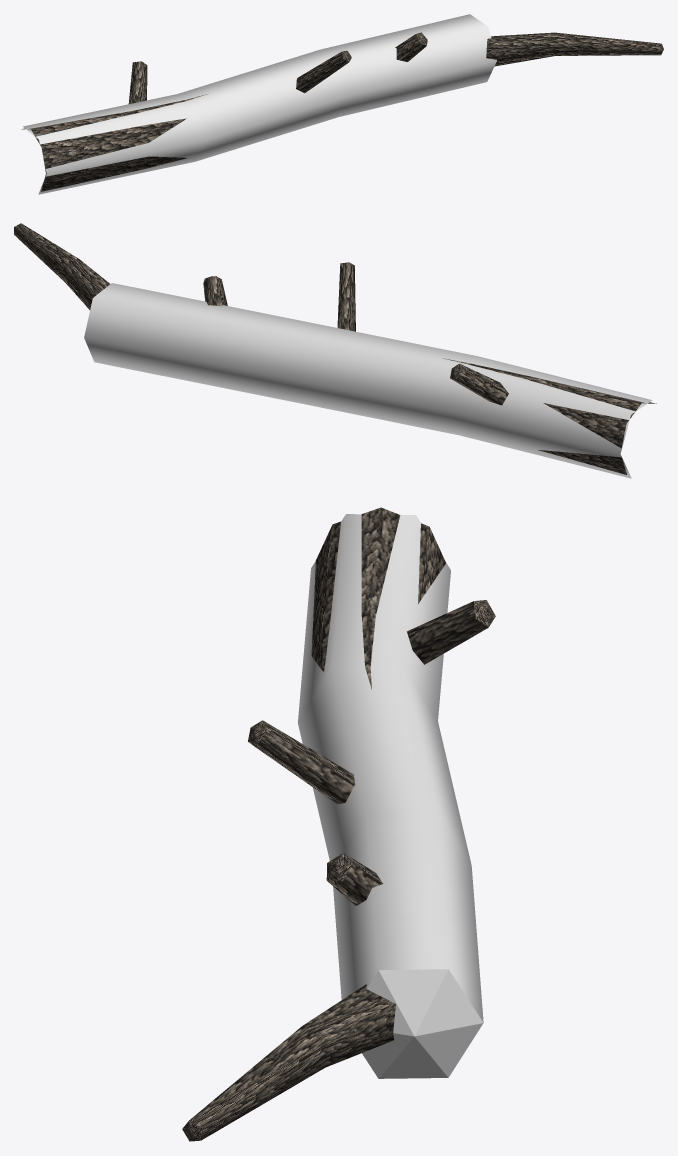
Rendered from Tronco-Caido-01.glb.
The picture shows the model from 3 angles, top to bottom: view 1: azimuth 30°, elevation 25°; view 2: azimuth 150°, elevation 25°; view 3: azimuth 270°, elevation 25°; orthographic projection. The views are drawn at different scales.
Parts seen in each view (by area): view 1: Tronco-Caido-01_COL, Tronco-Caido-01; view 2: Tronco-Caido-01_COL, Tronco-Caido-01; view 3: Tronco-Caido-01_COL, Tronco-Caido-01.
Part boxes in pixels (x1,y1,x2,y2): Tronco-Caido-01_COL: (23, 14, 496, 194); Tronco-Caido-01: (21, 32, 663, 191); Tronco-Caido-01_COL: (84, 283, 652, 478); Tronco-Caido-01: (14, 223, 656, 474); Tronco-Caido-01_COL: (298, 514, 483, 1078); Tronco-Caido-01: (182, 507, 495, 1141).
Size of what is drawn, in the model's own units: 5.93 by 0.909 by 1.37.
Materials: 1 (1 with a texture image).
